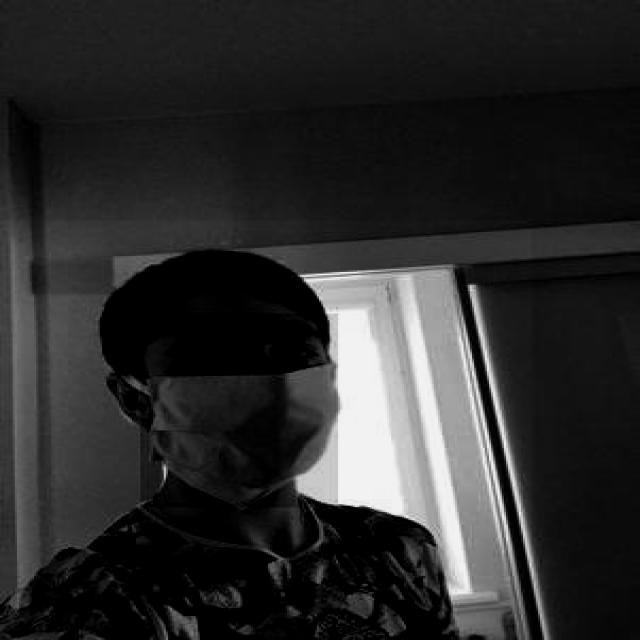face_mask: (140, 314, 338, 507)
head_nohelmet: (104, 250, 338, 316)
person: (0, 221, 534, 638)
